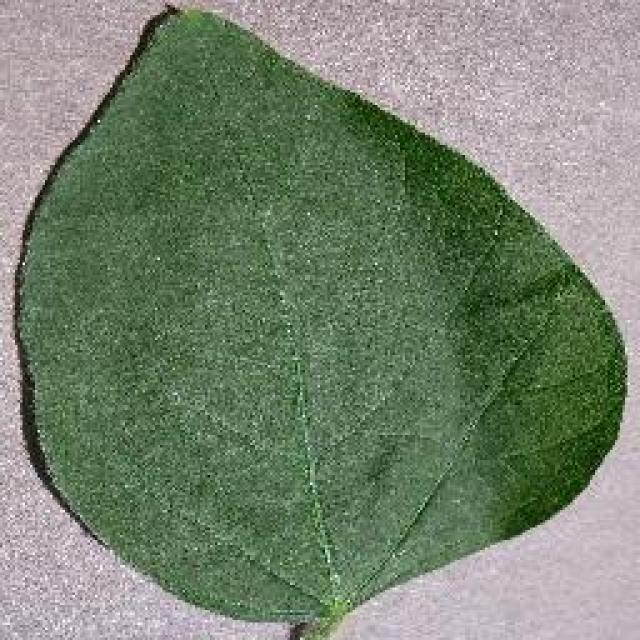Soy_healthy: (27, 18, 570, 575)
